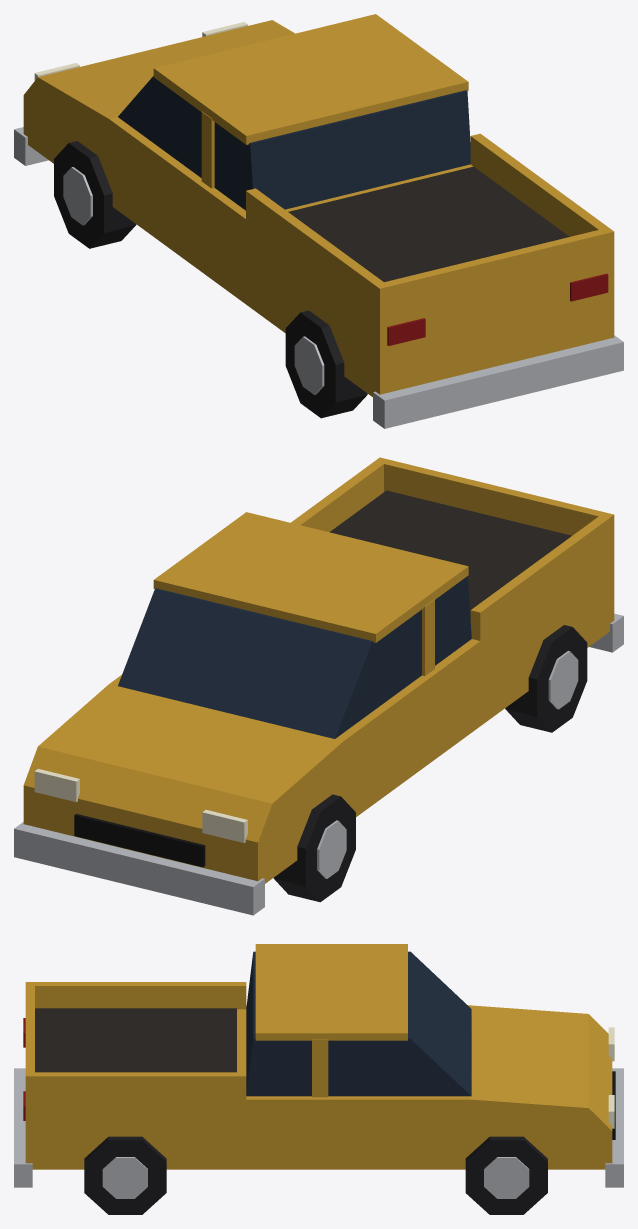
The model's file is CarPickupMustard.obj.
The picture shows the model from 3 angles, top to bottom: view 1: azimuth 30°, elevation 25°; view 2: azimuth 150°, elevation 25°; view 3: azimuth 270°, elevation 25°; orthographic projection. The views are drawn at different scales.
Parts seen in each view (by area): view 1: CarPickupMustard; view 2: CarPickupMustard; view 3: CarPickupMustard.
Part boxes in pixels (x1,y1,x2,y2): CarPickupMustard: (14,14,623,428); CarPickupMustard: (14,457,623,915); CarPickupMustard: (14,944,623,1214).
Bounding box in the file's own units: 2.07 × 1.65 × 5.2.
Materials: 1 (1 with a texture image).
